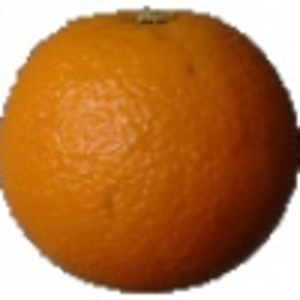laranja: (1, 4, 295, 296)
